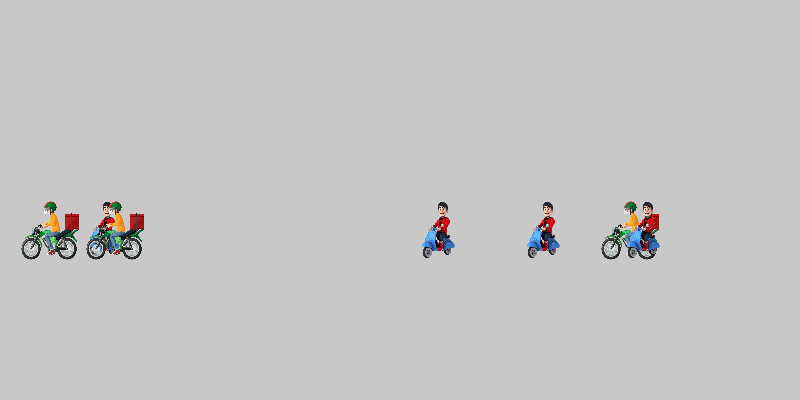helmet: (20, 200, 80, 260), (85, 200, 145, 260), (600, 200, 660, 260)
no_helmet: (75, 200, 135, 260), (410, 200, 470, 260), (515, 200, 575, 260), (615, 200, 675, 260)
